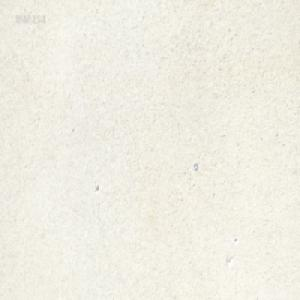Washer: (193, 162, 198, 171)
